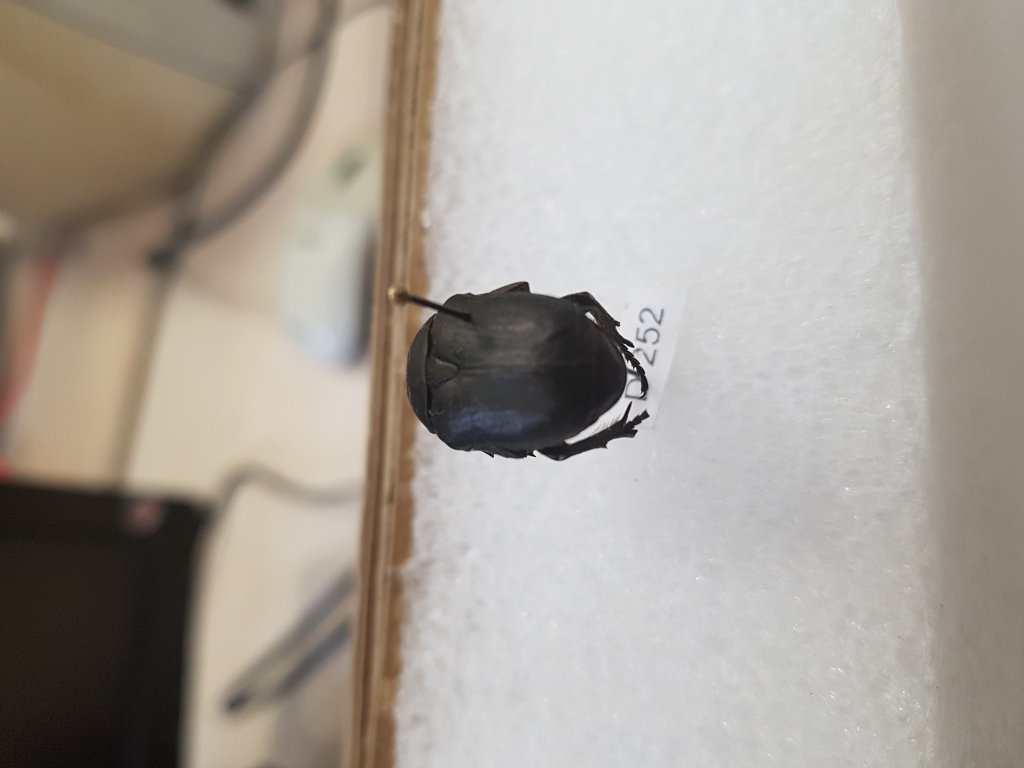Protaetia_vidua: (405, 272, 654, 466)
